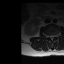CCS_normal: (51, 33, 52, 42)
LFS_normal: (54, 32, 56, 38)
LLS_normal: (52, 33, 54, 40)
RFS_normal: (47, 33, 49, 39)
RLS_normal: (49, 33, 51, 39)
